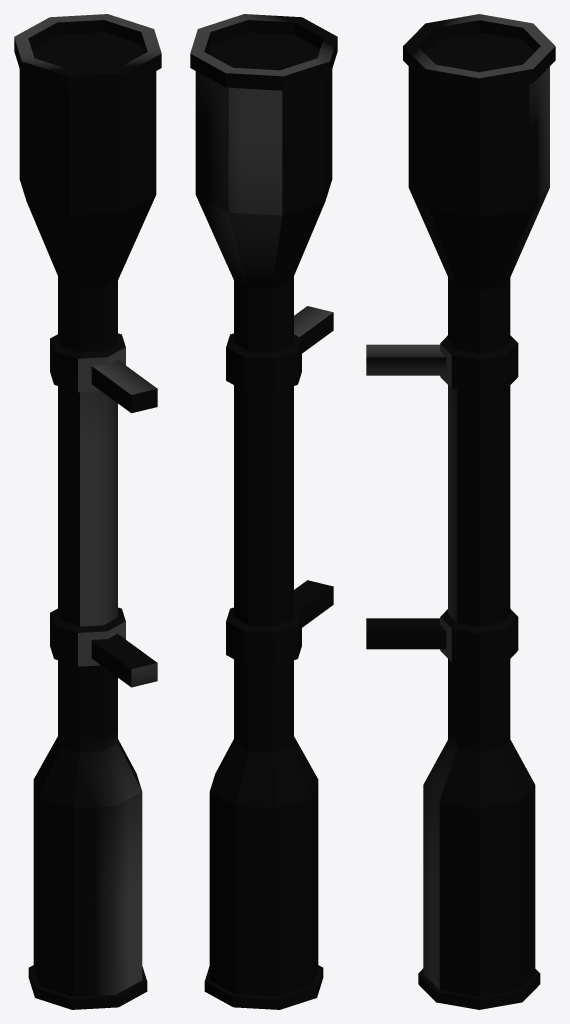
Rendered from Optic_Rimfire4x.fbx.
The picture shows the model from 3 angles, left to right: view 1: azimuth 30°, elevation 25°; view 2: azimuth 150°, elevation 25°; view 3: azimuth 270°, elevation 25°; orthographic projection.
Visible parts, largest first — view 1: asset_Optic_Rimfire4x.001; view 2: asset_Optic_Rimfire4x.001; view 3: asset_Optic_Rimfire4x.001.
Boxes of the visible parts, bbox=[...] form: asset_Optic_Rimfire4x.001: bbox=[14, 14, 161, 1009]; asset_Optic_Rimfire4x.001: bbox=[190, 14, 337, 1009]; asset_Optic_Rimfire4x.001: bbox=[366, 14, 555, 1009].
Bounding box in the file's own units: 0.0239 × 0.162 × 0.0296.
